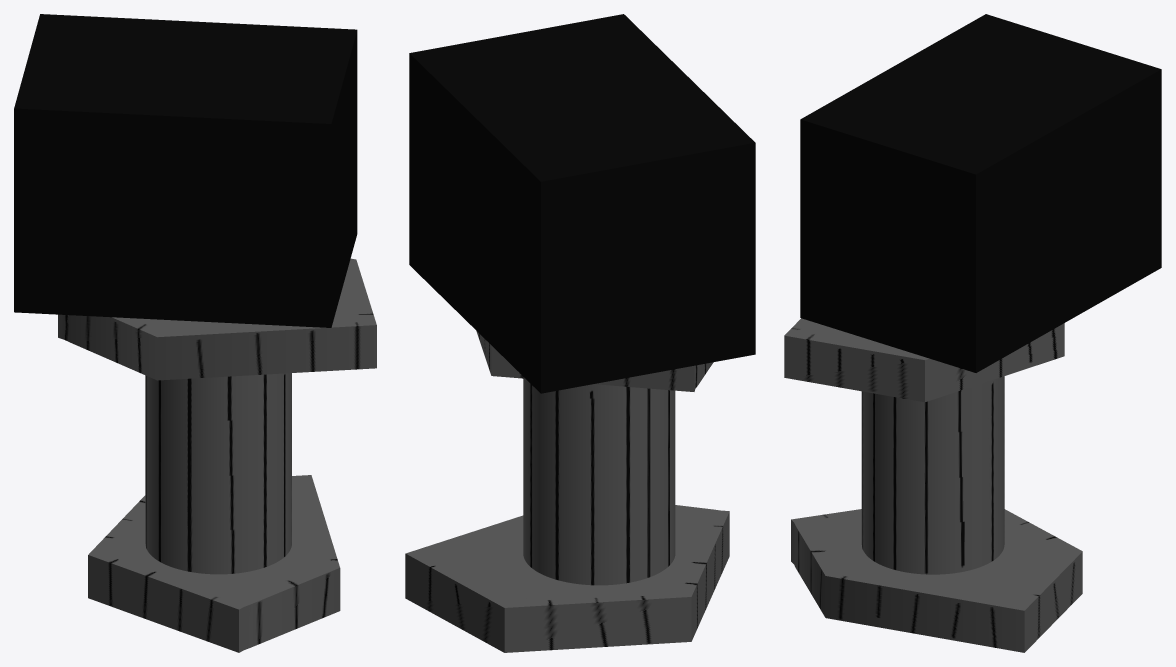
File: pedastal.glb
The picture shows the model from 3 angles, left to right: view 1: azimuth 30°, elevation 25°; view 2: azimuth 150°, elevation 25°; view 3: azimuth 270°, elevation 25°; orthographic projection. The views are drawn at different scales.
Parts seen in each view (by area): view 1: mesh_id42, mesh_id32, mesh_id26, mesh_id38; view 2: mesh_id42, mesh_id32, mesh_id26, mesh_id38; view 3: mesh_id42, mesh_id32, mesh_id26, mesh_id38.
Part boxes in pixels (box(x1,y1,x2,y2)): mesh_id42: box(14, 14, 357, 327); mesh_id32: box(145, 373, 291, 574); mesh_id26: box(88, 475, 340, 652); mesh_id38: box(58, 258, 376, 380); mesh_id42: box(409, 14, 755, 393); mesh_id32: box(523, 378, 675, 585); mesh_id26: box(405, 505, 729, 652); mesh_id38: box(476, 331, 713, 391); mesh_id42: box(800, 14, 1161, 372); mesh_id32: box(861, 376, 1004, 574); mesh_id26: box(791, 509, 1082, 652); mesh_id38: box(784, 318, 1064, 402).
Size of the model in its own units: 0.3361 by 0.4763 by 0.3337.
4 materials, 4 textured.
